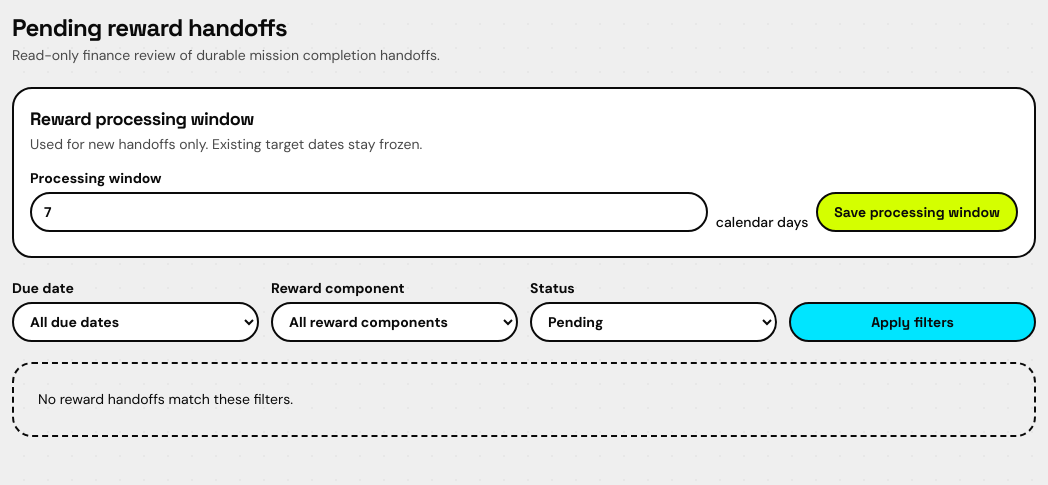
Test case: RewardHandoffQueue › rejects invalid SLA input NaN
Replace the text in the field labelled "Processing window" with "NaN": (369, 212) [30,192,708,232]
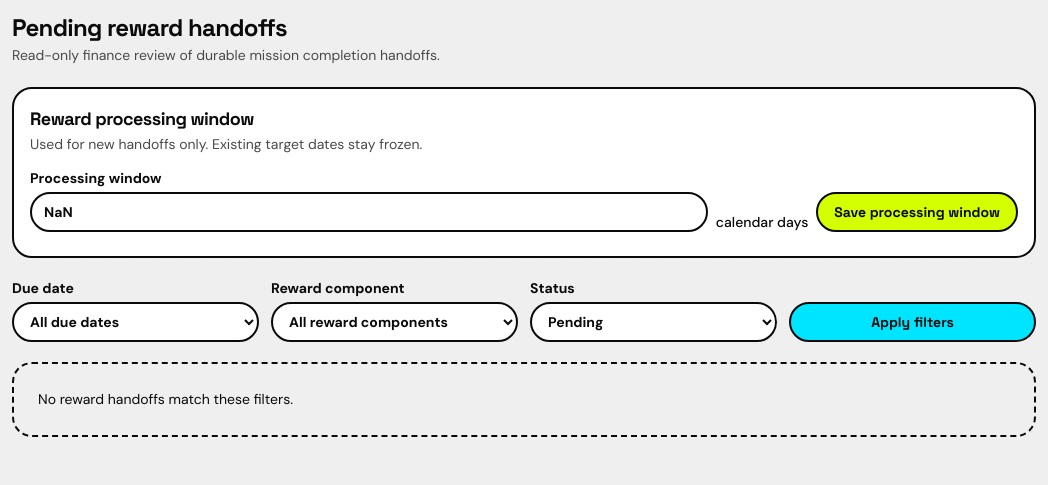
Click the button "Save processing window": (917, 212) [816,192,1018,232]
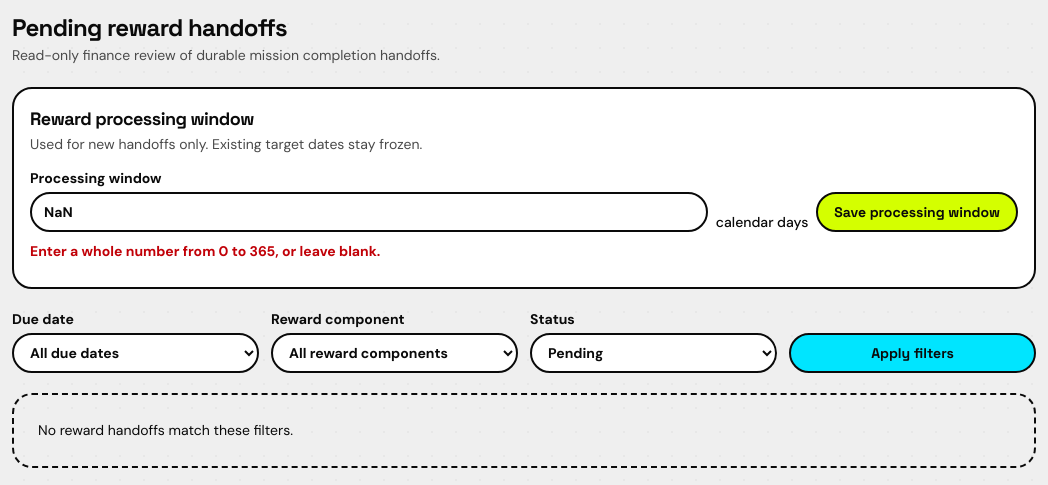
Check: the message reads "Enter a whole number from 0 to 365, or leave blank.", box [30,242,380,260]
